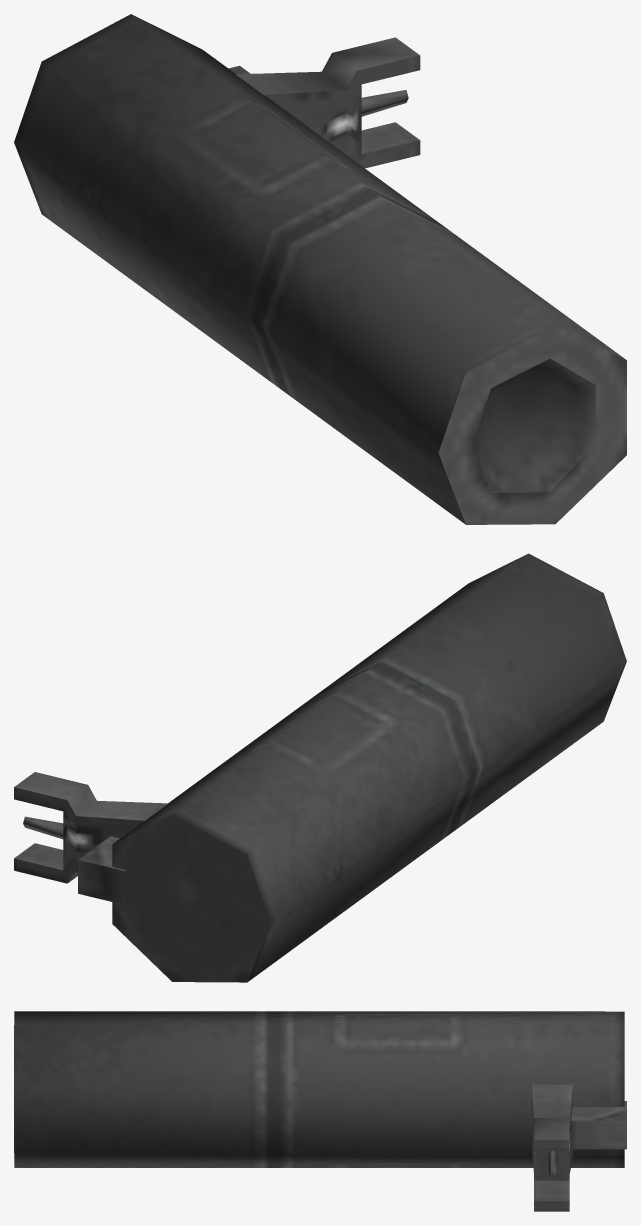
File: Pickup_WeaponZj06.glb
3 views of the same model, one above another, from view 1: azimuth 30°, elevation 25°; view 2: azimuth 150°, elevation 25°; view 3: azimuth 270°, elevation 25° (orthographic). The views are drawn at different scales.
Parts seen in each view (by area): view 1: pk_weapon_zj06; view 2: pk_weapon_zj06; view 3: pk_weapon_zj06.
Boxes of the visible parts, box(x1,y1,x2,y2) form: pk_weapon_zj06: box(14, 14, 626, 524); pk_weapon_zj06: box(14, 553, 626, 982); pk_weapon_zj06: box(14, 1011, 626, 1211).
Bounding box in the file's own units: 0.2073 × 0.1151 × 0.4456.
1 material, 1 textured.
